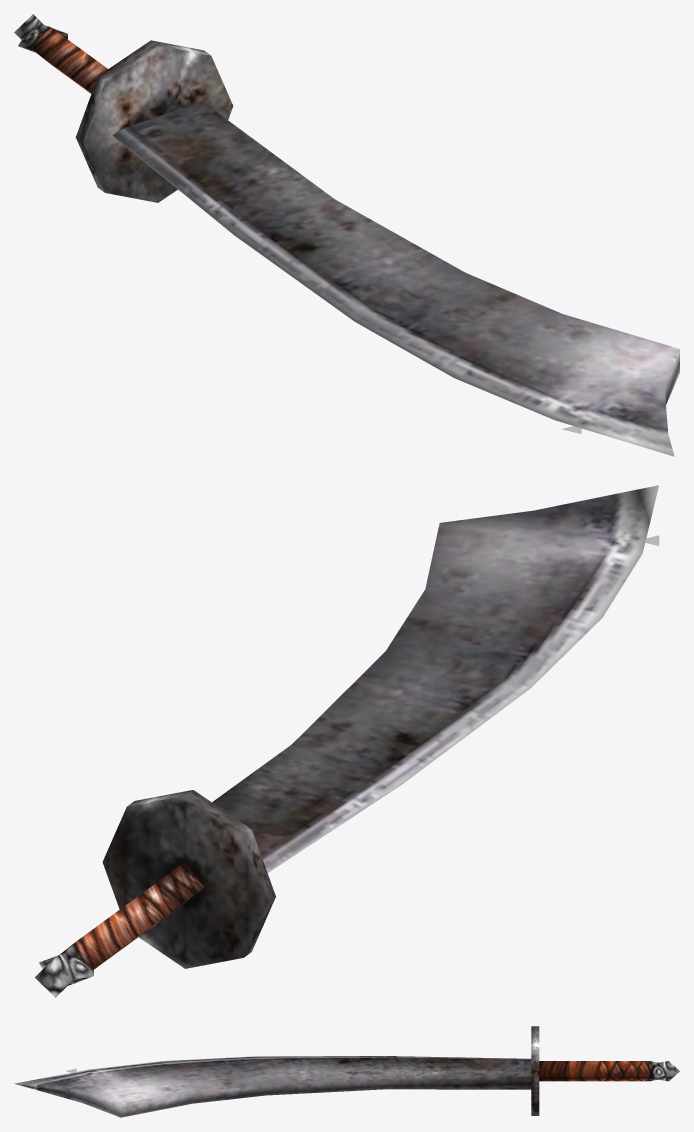
Rendered from paraga.fbx.
3 renders of one model, top to bottom at view 1: azimuth 30°, elevation 25°; view 2: azimuth 150°, elevation 25°; view 3: azimuth 270°, elevation 25°, orthographic. The views are drawn at different scales.
Parts seen in each view (by area): view 1: d_WPN_LSW_15_L1; view 2: d_WPN_LSW_15_L1; view 3: d_WPN_LSW_15_L1.
Boxes of the visible parts, box(x1,y1,x2,y2) form: d_WPN_LSW_15_L1: box(14, 14, 679, 456); d_WPN_LSW_15_L1: box(34, 485, 658, 997); d_WPN_LSW_15_L1: box(14, 1026, 679, 1117).
Size of what is drawn, in the model's own units: 3.76 by 2.52 by 17.56.
